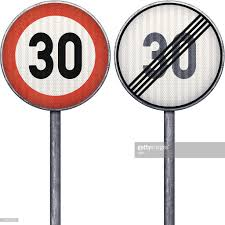Speed_limit_30km: (2, 3, 109, 111)
